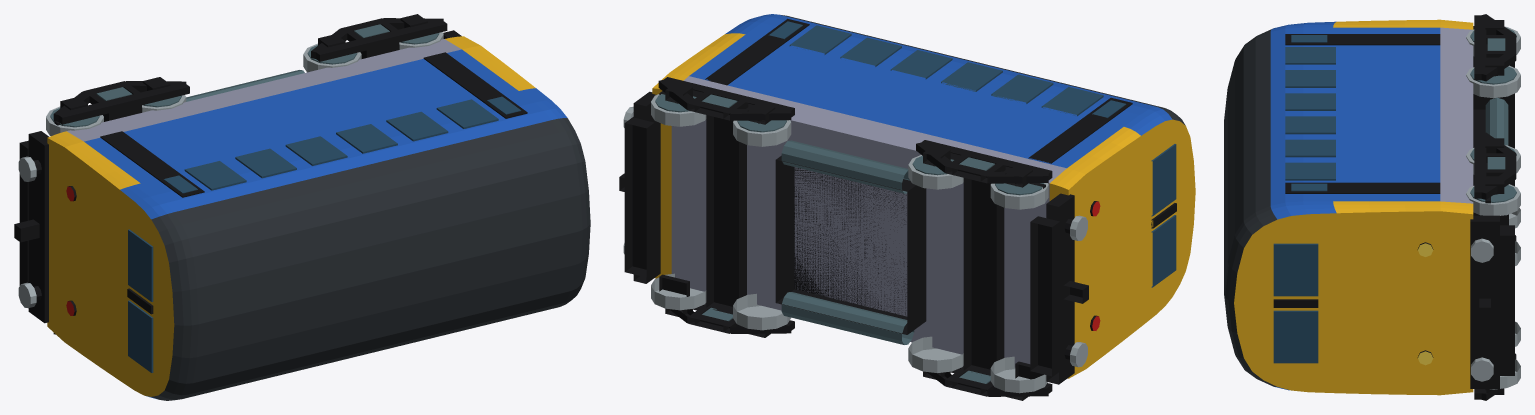
3 views of the same model, side by side, from view 1: azimuth 30°, elevation 25°; view 2: azimuth 150°, elevation 25°; view 3: azimuth 270°, elevation 25° (orthographic). The views are drawn at different scales.
Visible parts, largest first — view 1: default_body, default_bogie1, default_bogie-1, default_beam-1, default_side1_-3.15_2.00_black, default_side1_2.75_2.00_black, default_screen-1-0.62, default_screen-10.62, default_buffers-1, default_side1_1.06_3.75_glass_dark, default_side1_-2.62_3.75_glass_dark, default_side1_1.98_3.75_glass_dark (+5 smaller); view 2: default_body, default_bogie-1, default_bogie1, default_tank, default_plough1, default_plough-1, default_air_tank-1, default_air_tank1, default_beam-1, default_beam1, default_side1_2.75_2.00_black, default_side1_-3.15_2.00_black (+9 smaller); view 3: default_body, default_bogie1, default_beam1, default_bogie-1, default_screen1-0.62, default_screen10.62, default_plough1, default_side1_2.75_2.00_black, default_side1_-3.15_2.00_black, default_buffers1, default_side1_0.14_3.75_glass_dark, default_side1_1.06_3.75_glass_dark (+10 smaller).
Boxes of the visible parts, <box> form: default_body: <box>47,36,590,400</box>; default_bogie1: <box>303,14,447,72</box>; default_bogie-1: <box>46,77,189,334</box>; default_beam-1: <box>28,131,48,323</box>; default_side1_-3.15_2.00_black: <box>100,131,204,197</box>; default_side1_2.75_2.00_black: <box>423,52,527,118</box>; default_screen-1-0.62: <box>128,300,153,372</box>; default_screen-10.62: <box>128,229,153,301</box>; default_buffers-1: <box>14,156,41,308</box>; default_side1_1.06_3.75_glass_dark: <box>386,111,448,141</box>; default_side1_-2.62_3.75_glass_dark: <box>184,161,246,190</box>; default_side1_1.98_3.75_glass_dark: <box>436,99,498,128</box>; default_body: <box>652,14,1195,378</box>; default_bogie-1: <box>908,140,1052,400</box>; default_bogie1: <box>651,77,794,337</box>; default_tank: <box>775,155,926,334</box>; default_plough1: <box>624,117,654,277</box>; default_plough-1: <box>1030,216,1059,376</box>; default_air_tank-1: <box>781,292,914,344</box>; default_air_tank1: <box>781,140,909,193</box>; default_beam-1: <box>1046,193,1074,384</box>; default_beam1: <box>633,91,660,283</box>; default_side1_2.75_2.00_black: <box>705,18,809,85</box>; default_side1_-3.15_2.00_black: <box>1028,97,1132,163</box>; default_body: <box>1224,19,1473,395</box>; default_bogie1: <box>1466,132,1520,400</box>; default_beam1: <box>1470,215,1499,388</box>; default_bogie-1: <box>1466,14,1520,265</box>; default_screen1-0.62: <box>1273,310,1318,363</box>; default_screen10.62: <box>1273,243,1318,296</box>; default_plough1: <box>1500,225,1514,375</box>; default_side1_2.75_2.00_black: <box>1285,182,1440,193</box>; default_side1_-3.15_2.00_black: <box>1285,34,1440,45</box>; default_buffers1: <box>1471,238,1493,381</box>; default_side1_0.14_3.75_glass_dark: <box>1285,116,1335,134</box>; default_side1_1.06_3.75_glass_dark: <box>1285,139,1335,157</box>.
Bounding box in the file's own units: 8.46 × 3.9 × 4.98.
